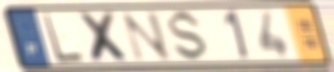1: (221, 9, 252, 62)
4: (258, 9, 292, 59)
L: (41, 12, 87, 64)
N: (119, 11, 175, 63)
S: (167, 9, 211, 63)
X: (75, 11, 135, 64)
